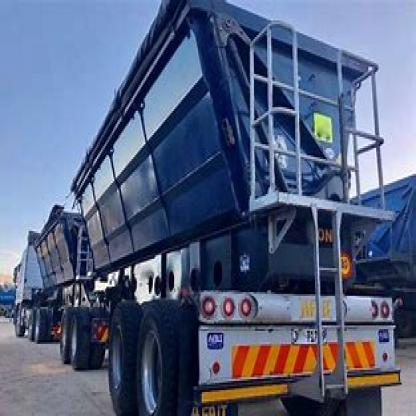dump_truck: (7, 9, 404, 414)
